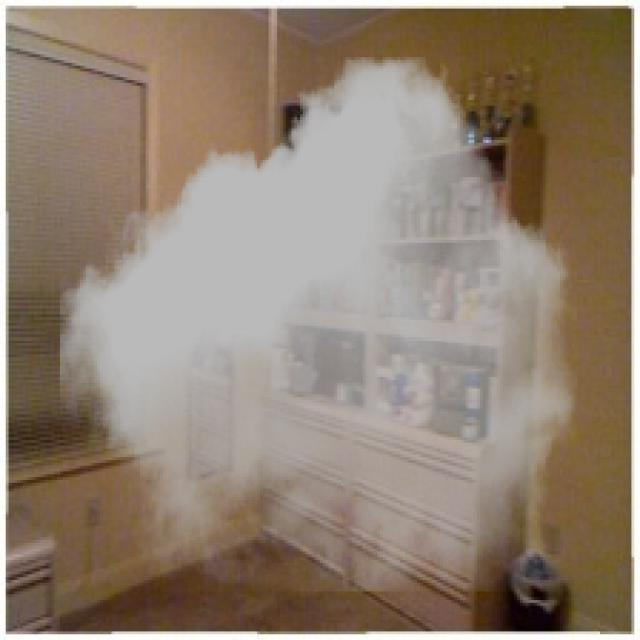smoke: (60, 57, 577, 592)
